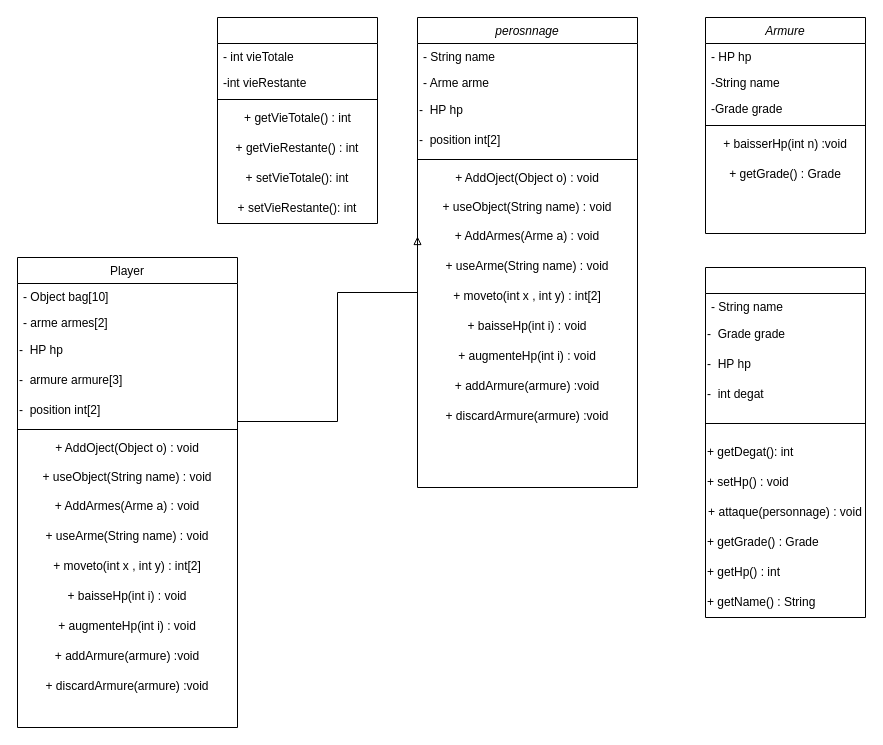
Image size: 883x745. Some labels were removed from this diagram. The box of each missing label's shape, as (x1, y1, x2, y2) in pixels:
Arme: (704, 266, 866, 618)
HP: (216, 16, 378, 224)
